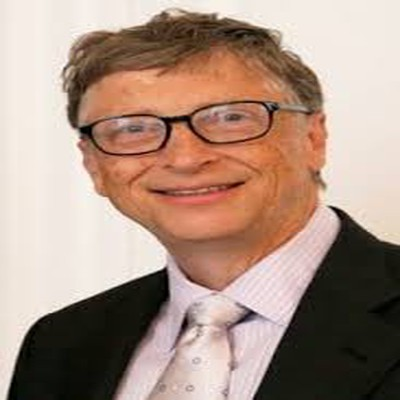eywear: (91, 91, 342, 187)
